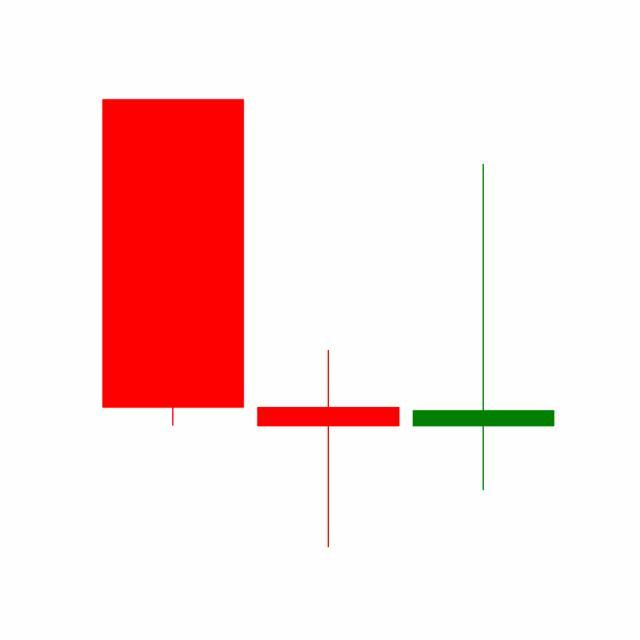Spinning Top: (250, 347, 407, 550)
